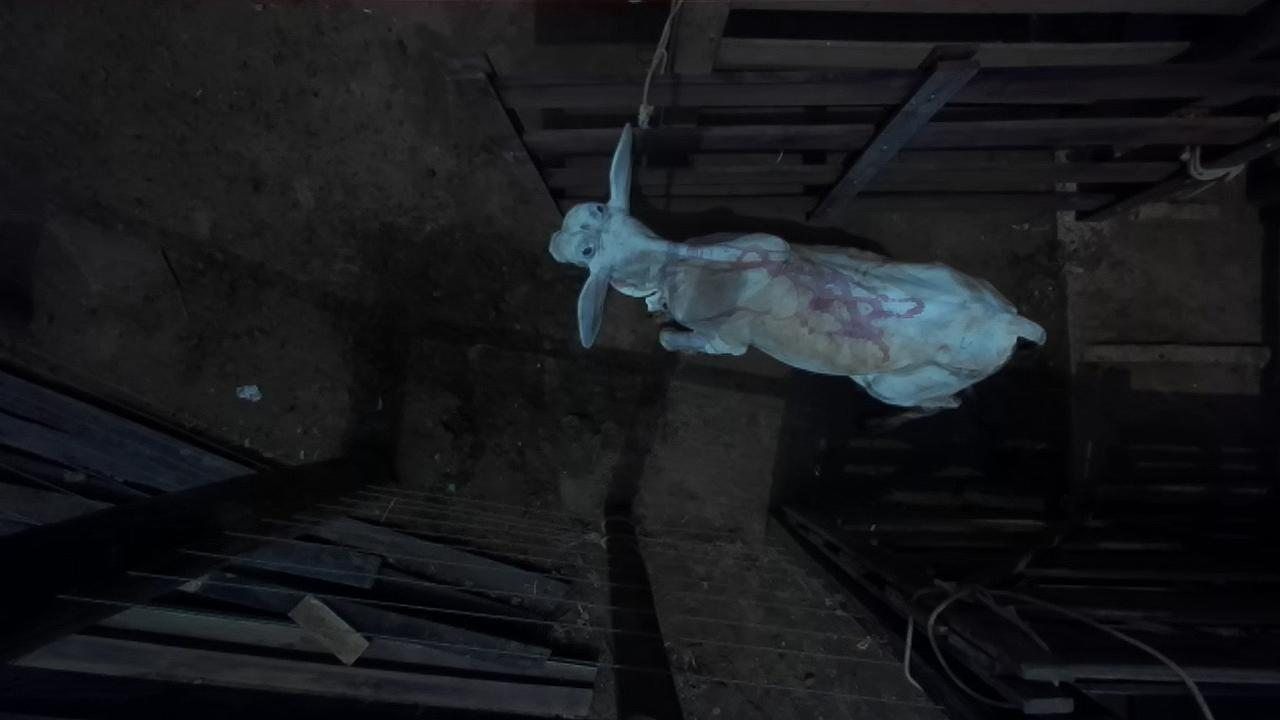cattle: (547, 120, 1047, 413)
